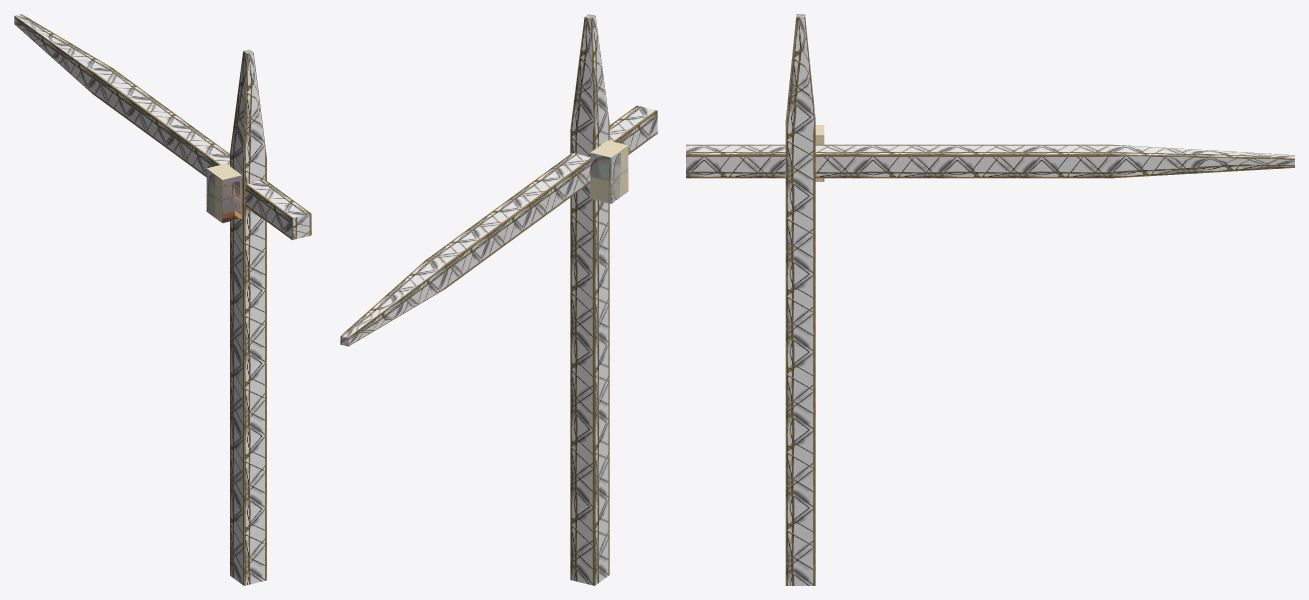
File: krn.FBX
3 renders of one model, left to right at view 1: azimuth 30°, elevation 25°; view 2: azimuth 150°, elevation 25°; view 3: azimuth 270°, elevation 25°, orthographic. The views are drawn at different scales.
Parts seen in each view (by area): view 1: Box003, crane2; view 2: Box003, crane2; view 3: crane2, Box003.
Part boxes in pixels (x1,y1,x2,y2): Box003: (230,49,266,585); crane2: (14,14,311,239); Box003: (570,14,609,585); crane2: (340,105,657,346); crane2: (686,125,1294,181); Box003: (785,14,815,585).
Bounding box in the file's own units: 14.43 × 172 × 168.
Materials: 1 (1 with a texture image).
